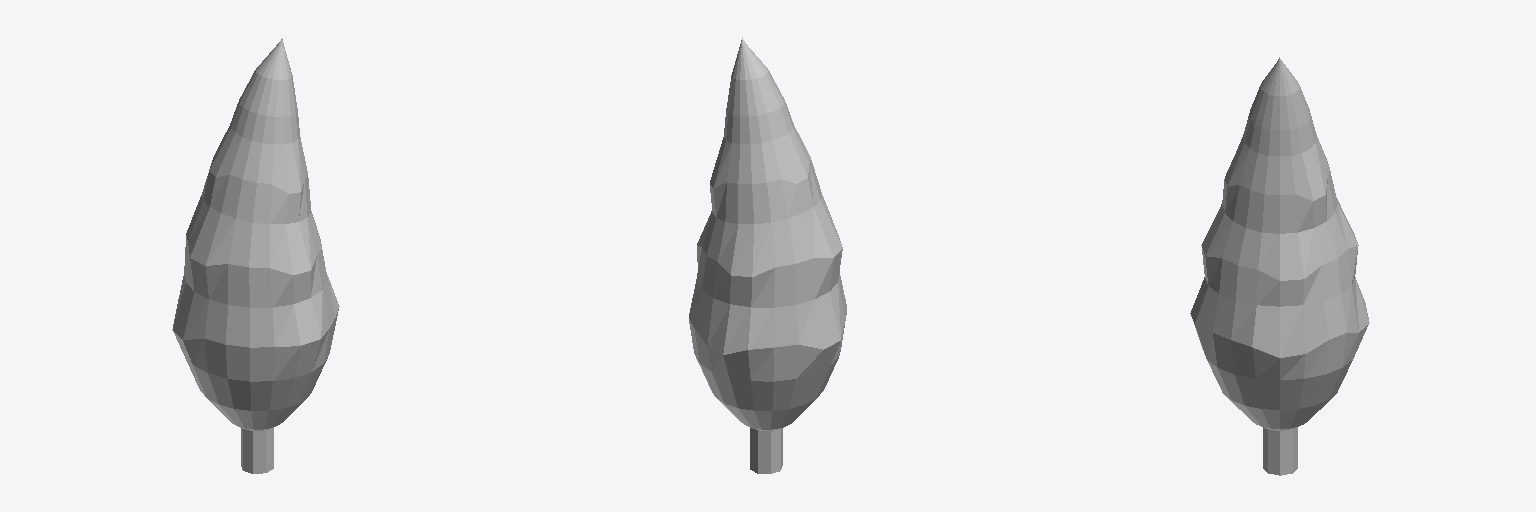
The model's file is Style_Tree02.obj.
The picture shows the model from 3 angles: view 1: azimuth 30°, elevation 25°; view 2: azimuth 150°, elevation 25°; view 3: azimuth 270°, elevation 25°; orthographic projection.
Visible parts, largest first — view 1: pCylinder10; view 2: pCylinder10; view 3: pCylinder10.
Part boxes in pixels (x1,y1,x2,y2): pCylinder10: (172, 38, 339, 473); pCylinder10: (689, 38, 846, 473); pCylinder10: (1190, 57, 1369, 475).
Size of the model in its own units: 3.81 by 10.52 by 4.04.